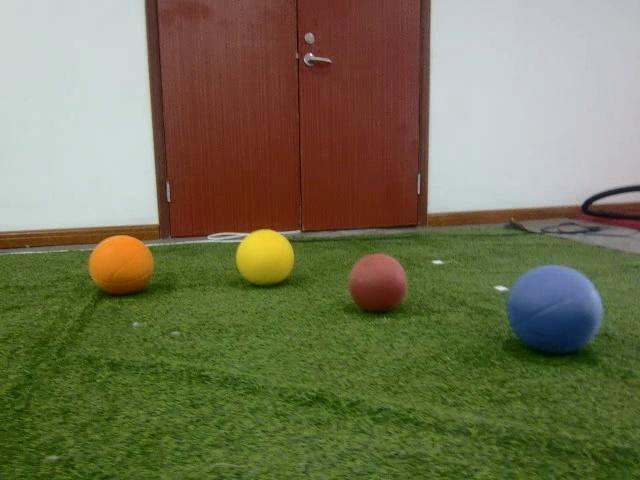blue_ball: (506, 262, 606, 355)
orange_ball: (88, 234, 155, 296)
red_ball: (350, 252, 407, 314)
yellow_ball: (233, 229, 294, 286)
